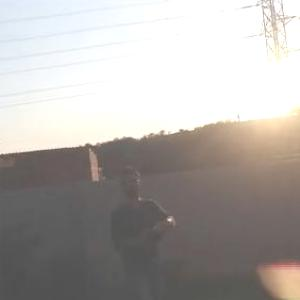follow: (106, 162, 190, 299)
